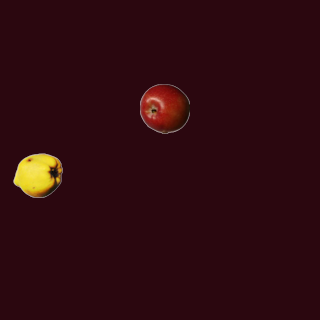Apple Braeburn: (139, 83, 189, 133)
Quince: (12, 150, 62, 200)
